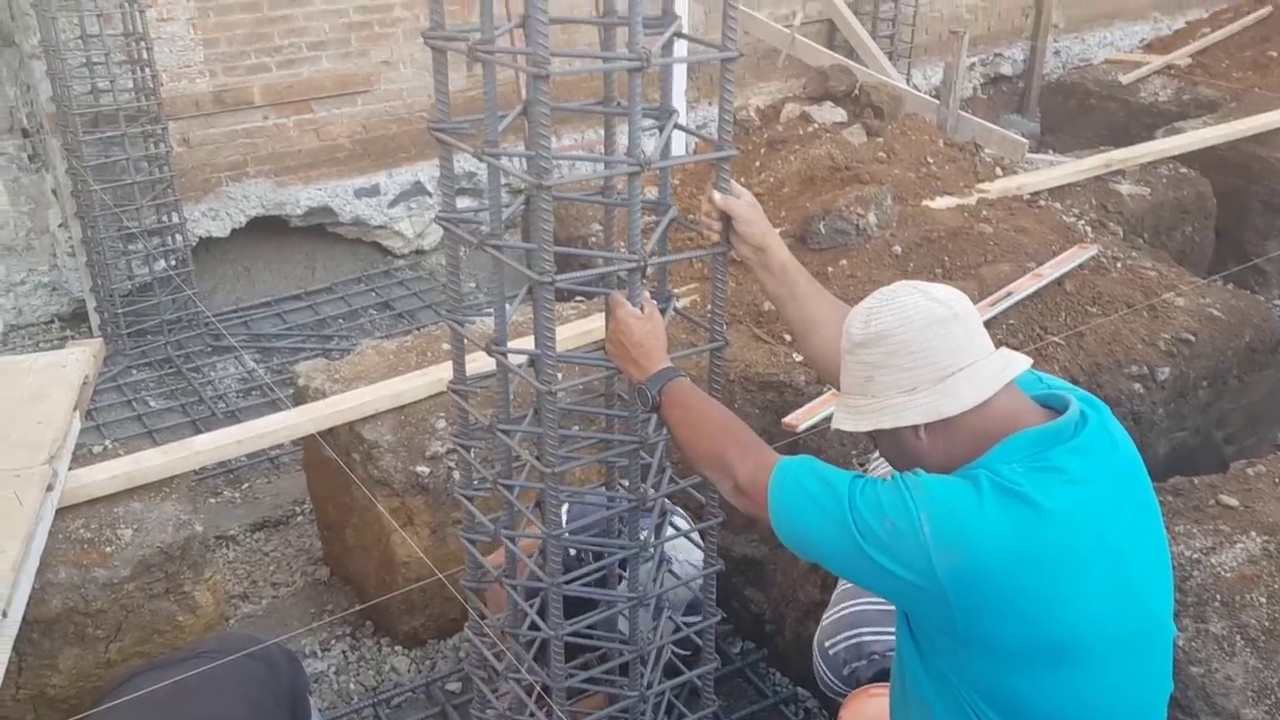helmet-off: (828, 283, 1067, 470)
person: (648, 248, 1194, 720), (446, 489, 714, 703)
